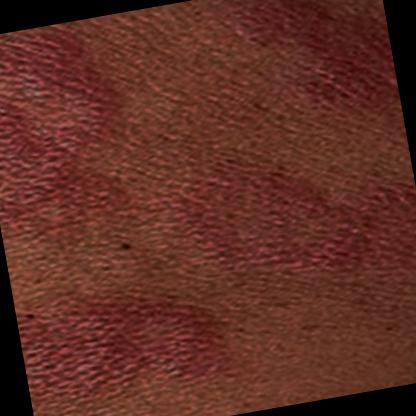Leprosy: (153, 114, 416, 305), (12, 260, 239, 416), (0, 13, 146, 235), (184, 0, 400, 143)
